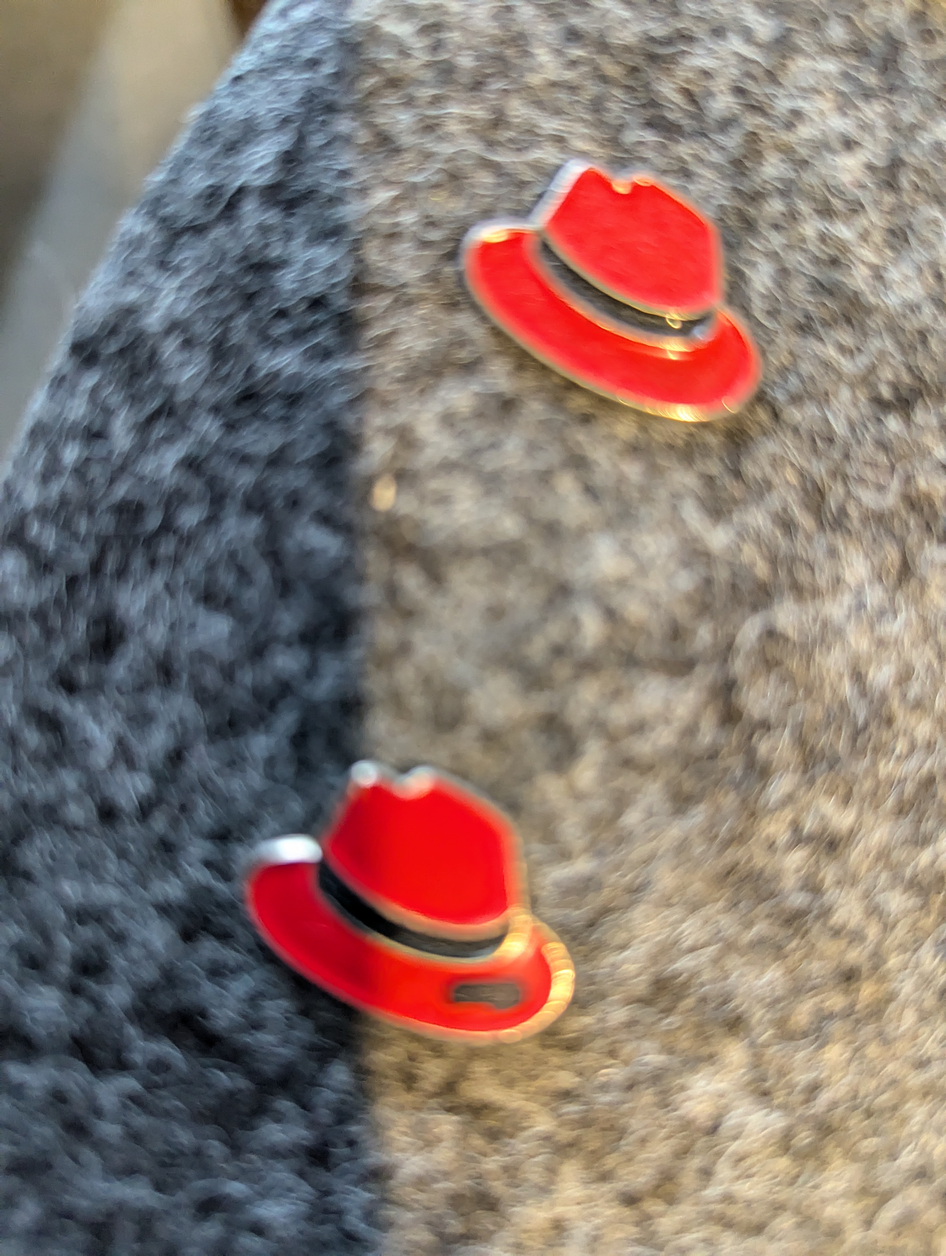Red-Hat: (218, 720, 601, 1072), (435, 129, 796, 450)
Scratch: (434, 961, 540, 1030)
